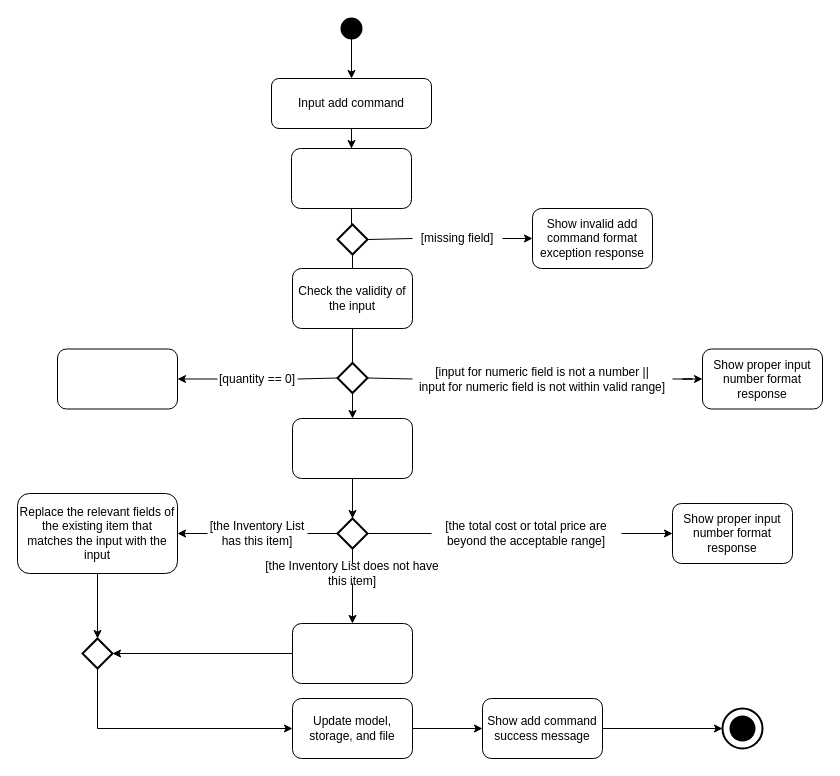
This 840x776 diagram has some shape labels left out. Each missing label, with the centre of its shape:
"Add the item to the InventoryList" belongs at pixel 352 653.
"Check if required fields are filled in" belongs at pixel 351 178.
"Create the item and check its values" belongs at pixel 352 448.
"Show quantity cannot be zero exception response" belongs at pixel 117 378.
